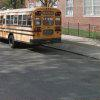Bus: (2, 2, 72, 54)
